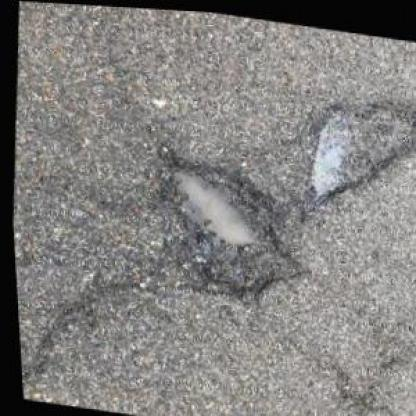pothole: (141, 144, 319, 308), (295, 79, 415, 215)
